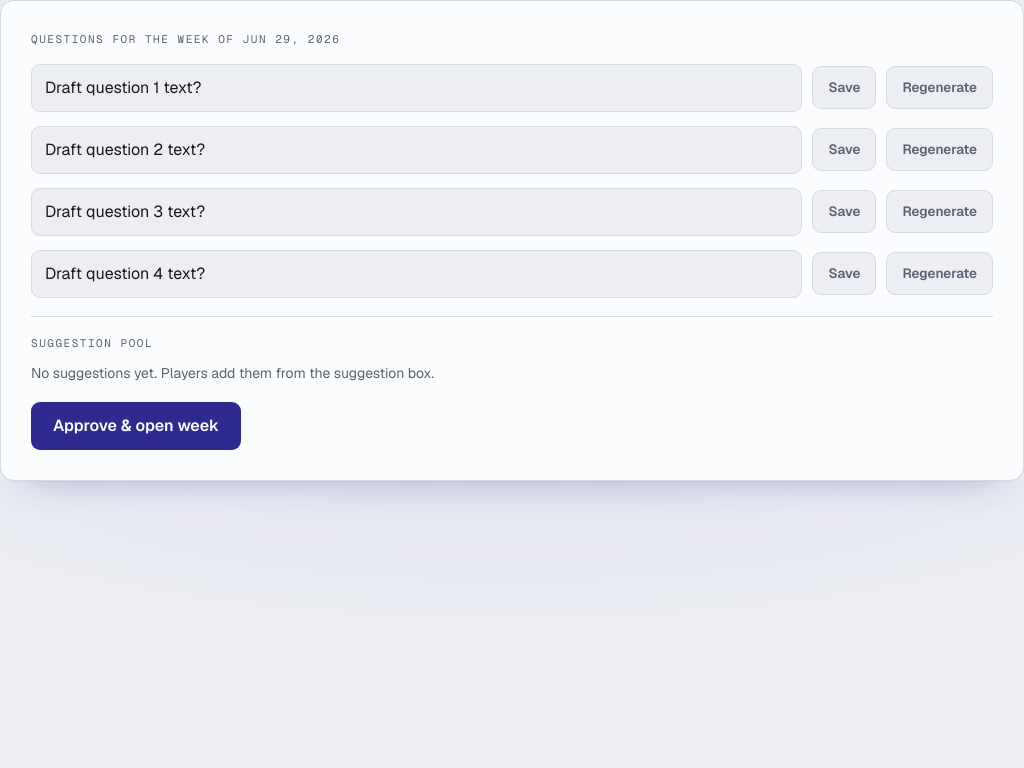
Test case: AdminQuestionReview: save edit › shows an error alert and does not throw when the save response is not ok
The image size is (1024, 768).
Replace the text in the field named "Draft question 1 text?" with "Bad edit" at [417, 88], box [31, 64, 802, 112]
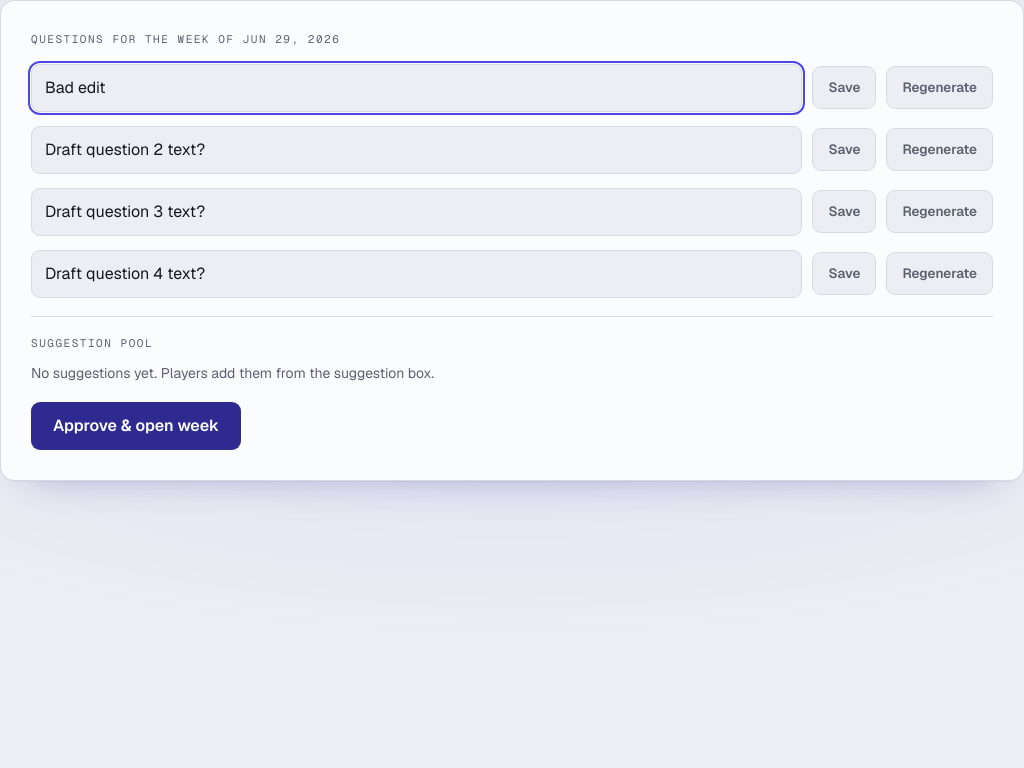
Click the 1st button "Save".
click(844, 88)  # box [812, 66, 876, 109]
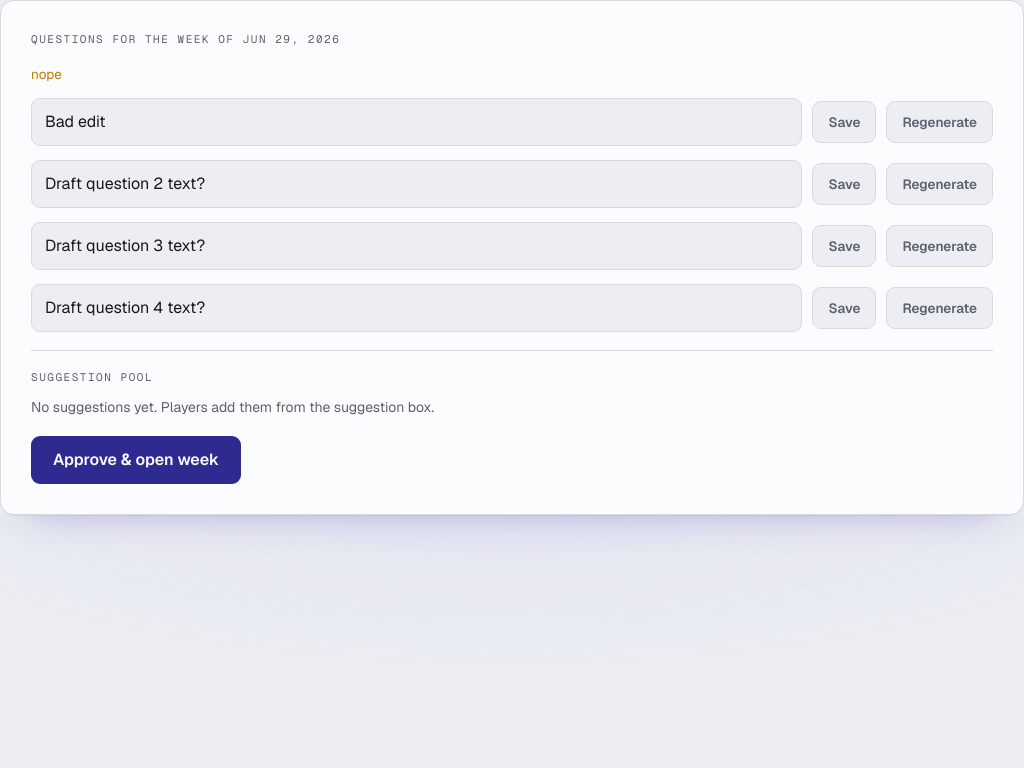
Expected: the message "nope" is shown, [31, 64, 62, 82]
